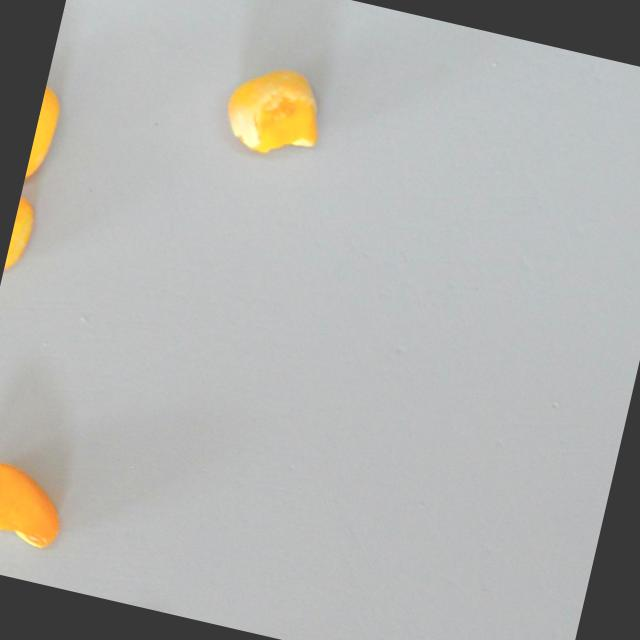no_canjicado: (0, 463, 69, 552), (3, 194, 40, 275)
pelicula: (217, 54, 333, 163), (23, 78, 68, 189)
